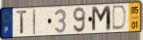3: (54, 8, 68, 35)
9: (72, 7, 87, 34)
D: (111, 4, 128, 32)
I: (32, 9, 37, 36)
M: (90, 5, 112, 34)
T: (16, 9, 29, 37)
